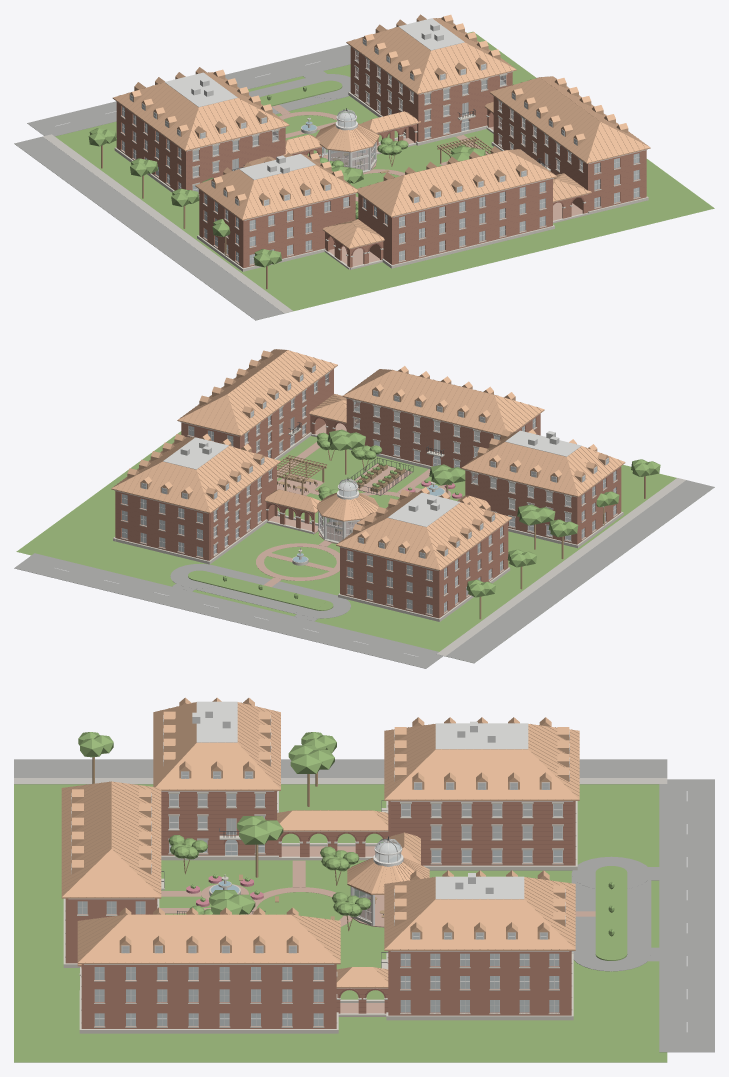
Rendered from clay-garden-court-senior-residence-clay-v004.glb.
3 renders of one model, top to bottom at view 1: azimuth 30°, elevation 25°; view 2: azimuth 150°, elevation 25°; view 3: azimuth 270°, elevation 25°, orthographic. The views are drawn at different scales.
Parts seen in each view (by area): view 1: CLAY_ROOF, CLAY_WALL, CLAY_LAWN, CLAY_FOUNDATION, CLAY_TRIM, CLAY_GLASS, CLAY_STONE, CLAY_MEMBRANE, CLAY_PLANTING, CLAY_CONCRETE, CLAY_SAND, CLAY_FLOOR (+1 smaller); view 2: CLAY_ROOF, CLAY_WALL, CLAY_LAWN, CLAY_FOUNDATION, CLAY_TRIM, CLAY_GLASS, CLAY_STONE, CLAY_PLANTING, CLAY_SAND, CLAY_MEMBRANE, CLAY_CONCRETE, CLAY_TIMBER (+2 smaller); view 3: CLAY_LAWN, CLAY_ROOF, CLAY_WALL, CLAY_FOUNDATION, CLAY_TRIM, CLAY_GLASS, CLAY_STONE, CLAY_PLANTING, CLAY_MEMBRANE, CLAY_JOINT, CLAY_SAND, CLAY_FLOOR (+2 smaller).
Part boxes in pixels (box(x1,y1,x2,y2)): CLAY_ROOF: box(112, 14, 650, 249); CLAY_WALL: box(116, 46, 646, 268); CLAY_LAWN: box(55, 31, 714, 311); CLAY_FOUNDATION: box(14, 44, 513, 320); CLAY_TRIM: box(122, 38, 647, 264); CLAY_GLASS: box(122, 39, 639, 264); CLAY_STONE: box(114, 49, 648, 271); CLAY_MEMBRANE: box(55, 18, 464, 179); CLAY_PLANTING: box(88, 86, 485, 267); CLAY_CONCRETE: box(43, 134, 292, 313); CLAY_SAND: box(271, 104, 582, 269); CLAY_FLOOR: box(193, 59, 582, 176); CLAY_ROOF: box(111, 349, 625, 570); CLAY_WALL: box(115, 369, 621, 618); CLAY_LAWN: box(16, 431, 676, 651); CLAY_FOUNDATION: box(14, 425, 714, 668); CLAY_TRIM: box(114, 365, 619, 614); CLAY_GLASS: box(122, 367, 616, 614); CLAY_STONE: box(113, 372, 623, 621); CLAY_PLANTING: box(223, 429, 660, 598); CLAY_SAND: box(256, 423, 453, 586); CLAY_MEMBRANE: box(54, 430, 581, 656); CLAY_CONCRETE: box(437, 478, 685, 656); CLAY_TIMBER: box(225, 449, 645, 619); CLAY_LAWN: box(14, 784, 667, 1062); CLAY_ROOF: box(61, 697, 579, 988); CLAY_WALL: box(65, 791, 575, 1028); CLAY_FOUNDATION: box(14, 759, 714, 1052); CLAY_TRIM: box(68, 715, 573, 1026); CLAY_GLASS: box(77, 772, 562, 1025); CLAY_STONE: box(63, 791, 577, 1033); CLAY_PLANTING: box(78, 732, 614, 936); CLAY_MEMBRANE: box(192, 701, 687, 1032); CLAY_JOINT: box(81, 792, 572, 1011); CLAY_SAND: box(160, 846, 595, 1016); CLAY_FLOOR: box(145, 794, 562, 1001).
Size of the model in its own units: 90 by 15.05 by 88.
